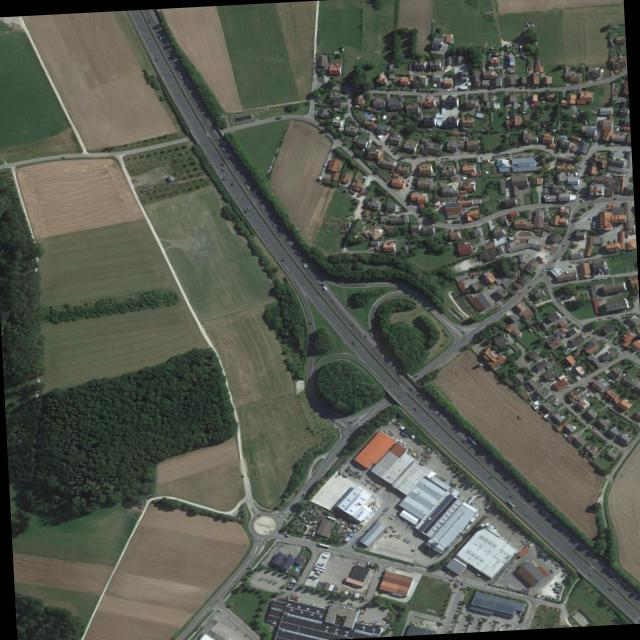large-vehicle: (467, 436, 476, 444), (506, 499, 514, 506), (314, 564, 324, 569), (314, 566, 324, 571), (317, 542, 329, 546), (320, 283, 326, 289), (313, 571, 319, 575), (312, 574, 319, 577), (523, 512, 528, 516), (402, 441, 406, 444), (399, 439, 402, 443), (397, 438, 401, 441), (221, 147, 224, 151), (551, 258, 555, 261), (301, 492, 304, 496), (317, 562, 323, 564), (276, 116, 281, 118), (322, 555, 327, 557), (356, 421, 359, 424), (369, 480, 372, 483), (366, 477, 369, 480), (508, 43, 511, 46), (608, 587, 611, 590), (588, 572, 591, 575), (158, 34, 160, 38), (179, 74, 181, 78), (374, 483, 377, 485), (491, 116, 492, 121), (506, 44, 508, 46), (490, 113, 491, 116), (639, 618, 640, 621)
small-vehicle: (351, 560, 356, 563), (229, 182, 233, 185), (349, 323, 353, 326), (350, 341, 354, 344), (499, 310, 503, 313), (272, 222, 275, 226), (246, 206, 250, 209), (488, 475, 492, 478), (340, 430, 343, 433), (456, 578, 459, 581), (378, 144, 381, 147), (366, 132, 369, 135), (527, 285, 530, 288), (541, 267, 544, 270), (413, 407, 416, 410), (289, 270, 292, 273), (280, 258, 283, 261), (221, 177, 224, 180), (220, 162, 223, 165), (154, 58, 157, 61), (591, 425, 594, 428), (597, 317, 601, 319), (424, 158, 428, 160), (606, 316, 610, 318), (610, 315, 614, 317), (632, 312, 636, 314), (620, 313, 624, 315), (243, 210, 246, 212), (312, 472, 315, 474), (460, 581, 462, 584), (517, 292, 520, 294), (539, 273, 542, 275), (612, 197, 615, 199), (588, 201, 591, 203), (440, 157, 443, 159), (402, 151, 404, 154), (363, 130, 366, 132), (561, 244, 564, 246), (308, 321, 310, 324), (220, 168, 223, 170), (206, 608, 209, 610), (508, 495, 511, 497), (628, 312, 631, 314), (330, 299, 332, 301), (579, 166, 581, 168), (444, 157, 448, 158), (435, 158, 439, 159), (353, 120, 355, 122), (348, 215, 351, 216), (425, 91, 428, 92), (624, 313, 627, 314), (148, 20, 149, 22)
